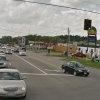Traffic light: (77, 15, 92, 41)
